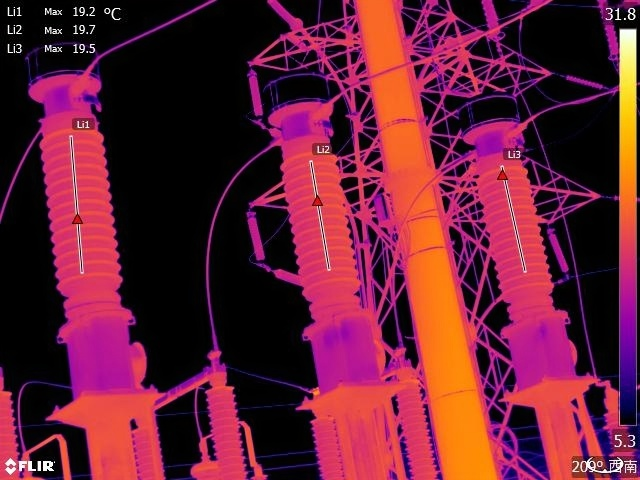current transformer: (19, 29, 167, 397), (263, 63, 396, 381), (457, 82, 588, 379)
insulator: (255, 1, 309, 34), (246, 206, 274, 264), (479, 1, 510, 44), (245, 60, 267, 120), (598, 1, 620, 58), (558, 68, 607, 91), (268, 266, 303, 296)
post insulator: (204, 385, 253, 480), (394, 381, 440, 480), (309, 413, 345, 480), (1, 382, 22, 480)
switch: (146, 355, 238, 412)
